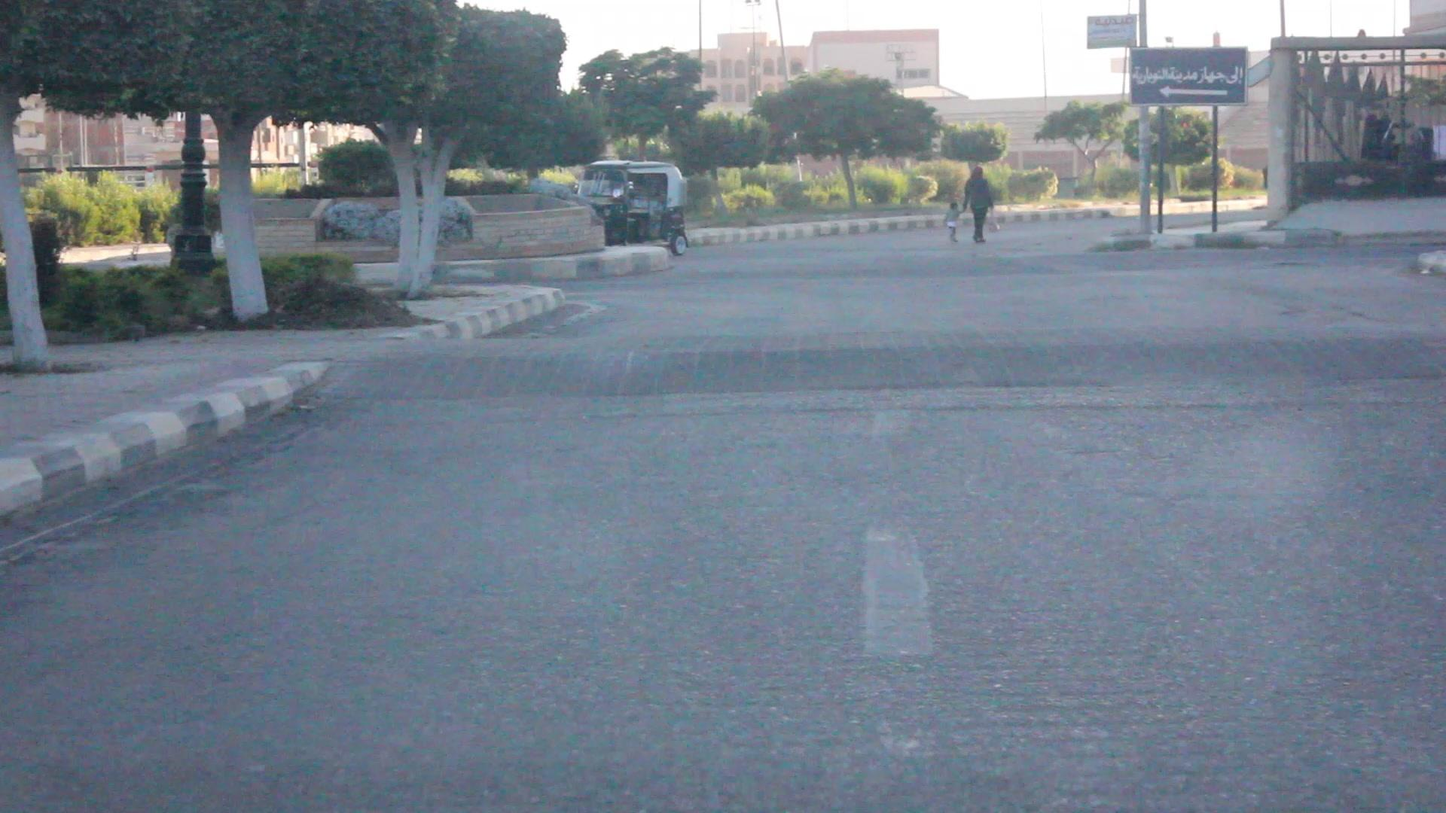Bump: (294, 316, 1445, 395)
